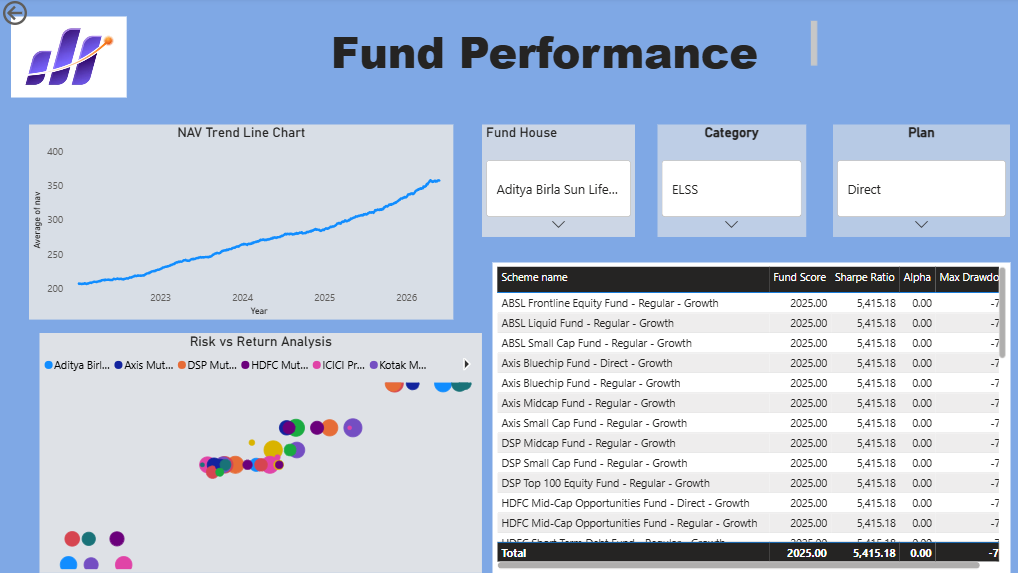

This screenshot's page, from the dashboard's own definition file:
{"tool":"powerbi","page":{"name":"Fund Performance","canvas":[1280,720],"ordinal":1},"visuals":[{"type":"textbox","box":[343.3,24.4,684.7,75],"z":0},{"type":"image","box":[15,24.4,144.4,101.3],"z":1000},{"type":"scatterChart","title":"Risk vs Return Analysis","fields":{"X":["scheme_performance_clean.return_3yr_pct"],"Y":["scheme_performance_clean.std_dev_ann_pct"],"Size":["Sum(scheme_performance_clean.aum_crore)"],"Series":["scheme_performance_clean.fund_house"]},"box":[50.7,420.2,553.4,300.1],"z":2000},{"type":"tableEx","fields":{"Values":["scheme_performance_clean.scheme_name","Sum(fund_scorecard.fund_score)","Sum(fund_scorecard.sharpe_ratio_y)","Sum(fund_scorecard.alpha_y)","Sum(fund_scorecard.max_drawdown)"]},"box":[617.2,332,647.2,388.3],"z":3000},{"type":"actionButton","box":[0,0,100,40],"z":4000},{"type":"lineChart","title":"NAV Trend Line Chart","fields":{"Y":["Avg(nav_history_clean.nav)"],"Category":["nav_history_clean.date.Variation.Date Hierarchy.Year","nav_history_clean.date.Variation.Date Hierarchy.Quarter","nav_history_clean.date.Variation.Date Hierarchy.Month","nav_history_clean.date.Variation.Date Hierarchy.Day"]},"box":[37.5,159.5,530.9,243.9],"z":5000},{"type":"advancedSlicerVisual","fields":{"Values":["fund_scorecard.fund_house"]},"box":[604,159.5,191.3,140.7],"z":6000},{"type":"advancedSlicerVisual","fields":{"Values":["fund_scorecard.category"]},"box":[823.5,159.5,185.7,140.7],"z":7000},{"type":"advancedSlicerVisual","fields":{"Values":["fund_scorecard.plan"]},"box":[1043,159.5,221.4,140.7],"z":8000}]}

Visuals, with their boxes in screenshot pixels (x1, y1, x2, y2), scaled from the page's 1280x720 canvas onto the 1018x573 screenshot:
textbox: (273,19,818,79)
image: (12,19,127,100)
"Risk vs Return Analysis" scatterChart: (40,334,480,572)
tableEx - scheme_performance_clean.scheme_name x Sum(fund_scorecard.fund_score): (491,264,1006,572)
actionButton: (0,0,80,32)
"NAV Trend Line Chart" lineChart: (30,127,452,321)
advancedSlicerVisual - fund_scorecard.fund_house: (480,127,633,239)
advancedSlicerVisual - fund_scorecard.category: (655,127,803,239)
advancedSlicerVisual - fund_scorecard.plan: (830,127,1006,239)
